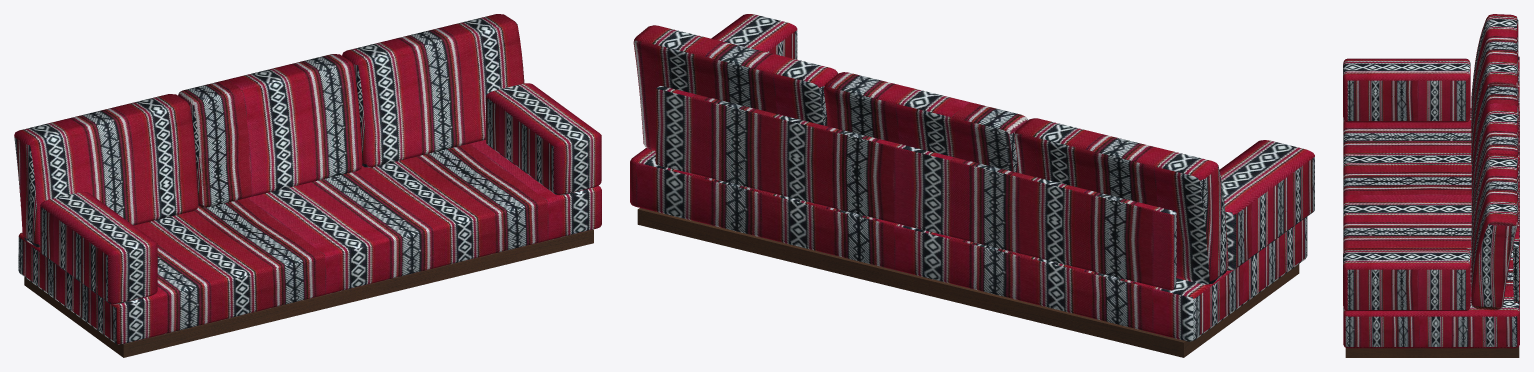
File: Sofa.fbx
The picture shows the model from 3 angles, left to right: view 1: azimuth 30°, elevation 25°; view 2: azimuth 150°, elevation 25°; view 3: azimuth 270°, elevation 25°; orthographic projection. The views are drawn at different scales.
Parts seen in each view (by area): view 1: Sofa; view 2: Sofa; view 3: Sofa.
Part boxes in pixels (box(x1,y1,x2,y2)): Sofa: box(14, 14, 601, 357); Sofa: box(630, 14, 1314, 357); Sofa: box(1343, 14, 1519, 357).
Bounding box in the file's own units: 86.22 × 26.68 × 30.66.
Materials: 2 (2 with a texture image).
